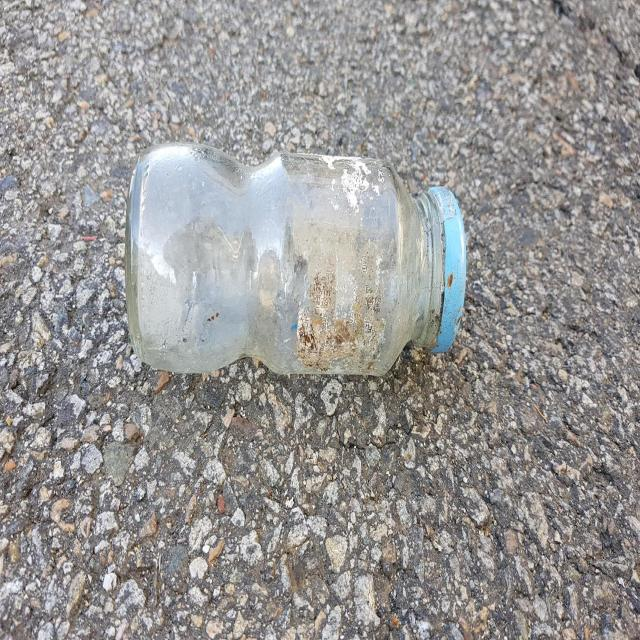glass: (125, 143, 466, 375)
